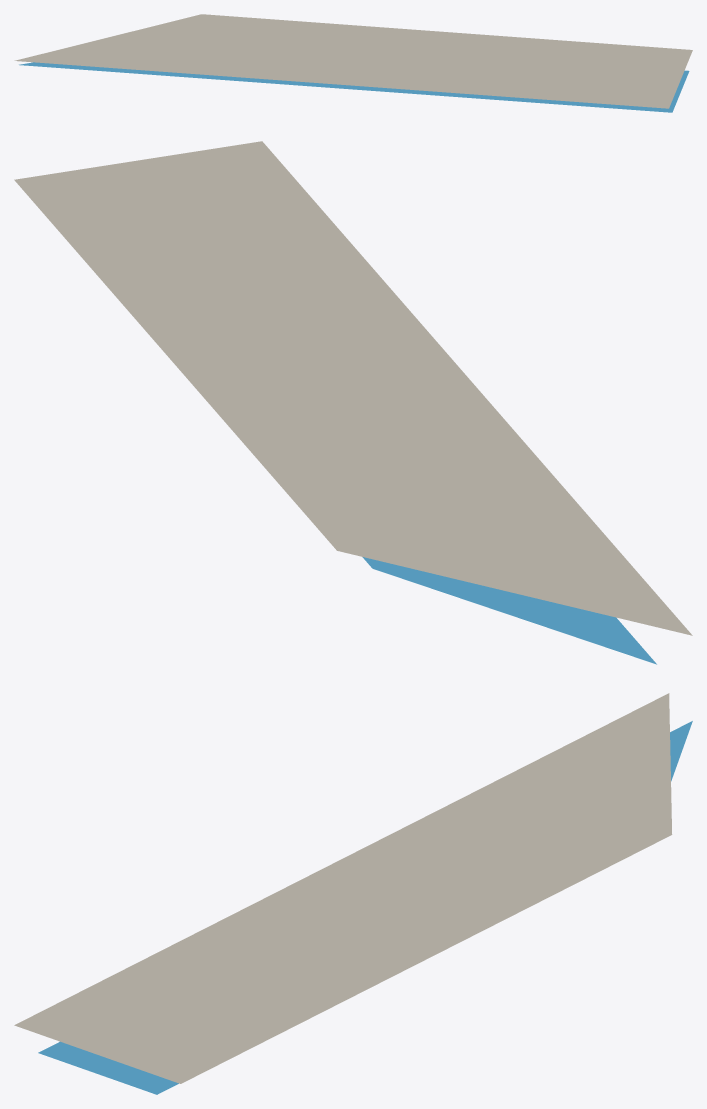
3 renders of one model, top to bottom at view 1: azimuth 30°, elevation 25°; view 2: azimuth 150°, elevation 25°; view 3: azimuth 270°, elevation 25°, orthographic. The views are drawn at different scales.
Visible parts, largest first — view 1: estructura_terreno, estructura_agua; view 2: estructura_terreno, estructura_agua; view 3: estructura_terreno, estructura_agua.
Part boxes in pixels (box(x1,y1,x2,y2)): estructura_terreno: box(14, 14, 692, 108); estructura_agua: box(19, 62, 689, 112); estructura_terreno: box(14, 141, 692, 635); estructura_agua: box(362, 557, 656, 664); estructura_terreno: box(14, 693, 672, 1083); estructura_agua: box(38, 721, 692, 1094).
Size of the model in its own units: 17.9 by 0.41 by 13.14.
